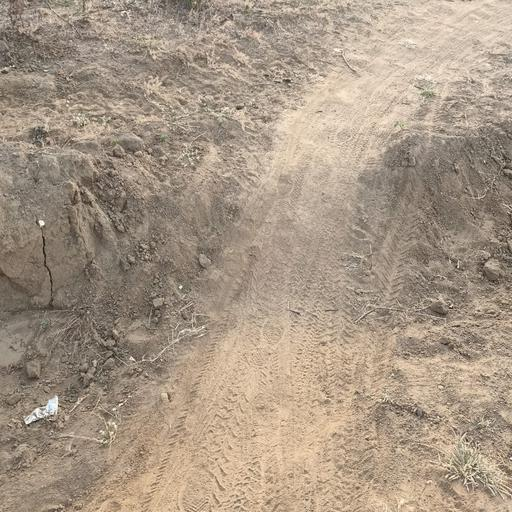vehicle_track: (56, 0, 512, 512)
